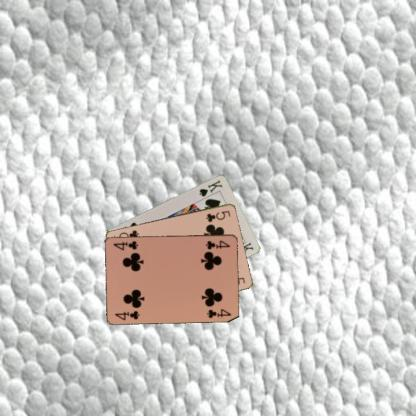4c: (113, 308, 141, 321), (203, 238, 231, 250)
5c: (203, 208, 232, 223)
Ks: (196, 177, 224, 198)
